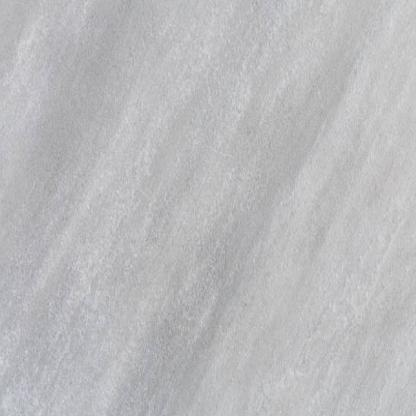Sedimentary_Sandstone: (1, 1, 415, 415)
